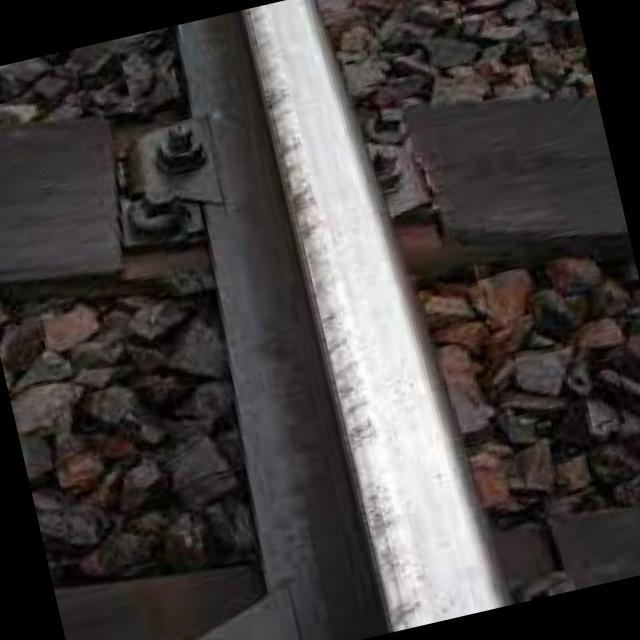non-defective: (192, 0, 568, 640)
